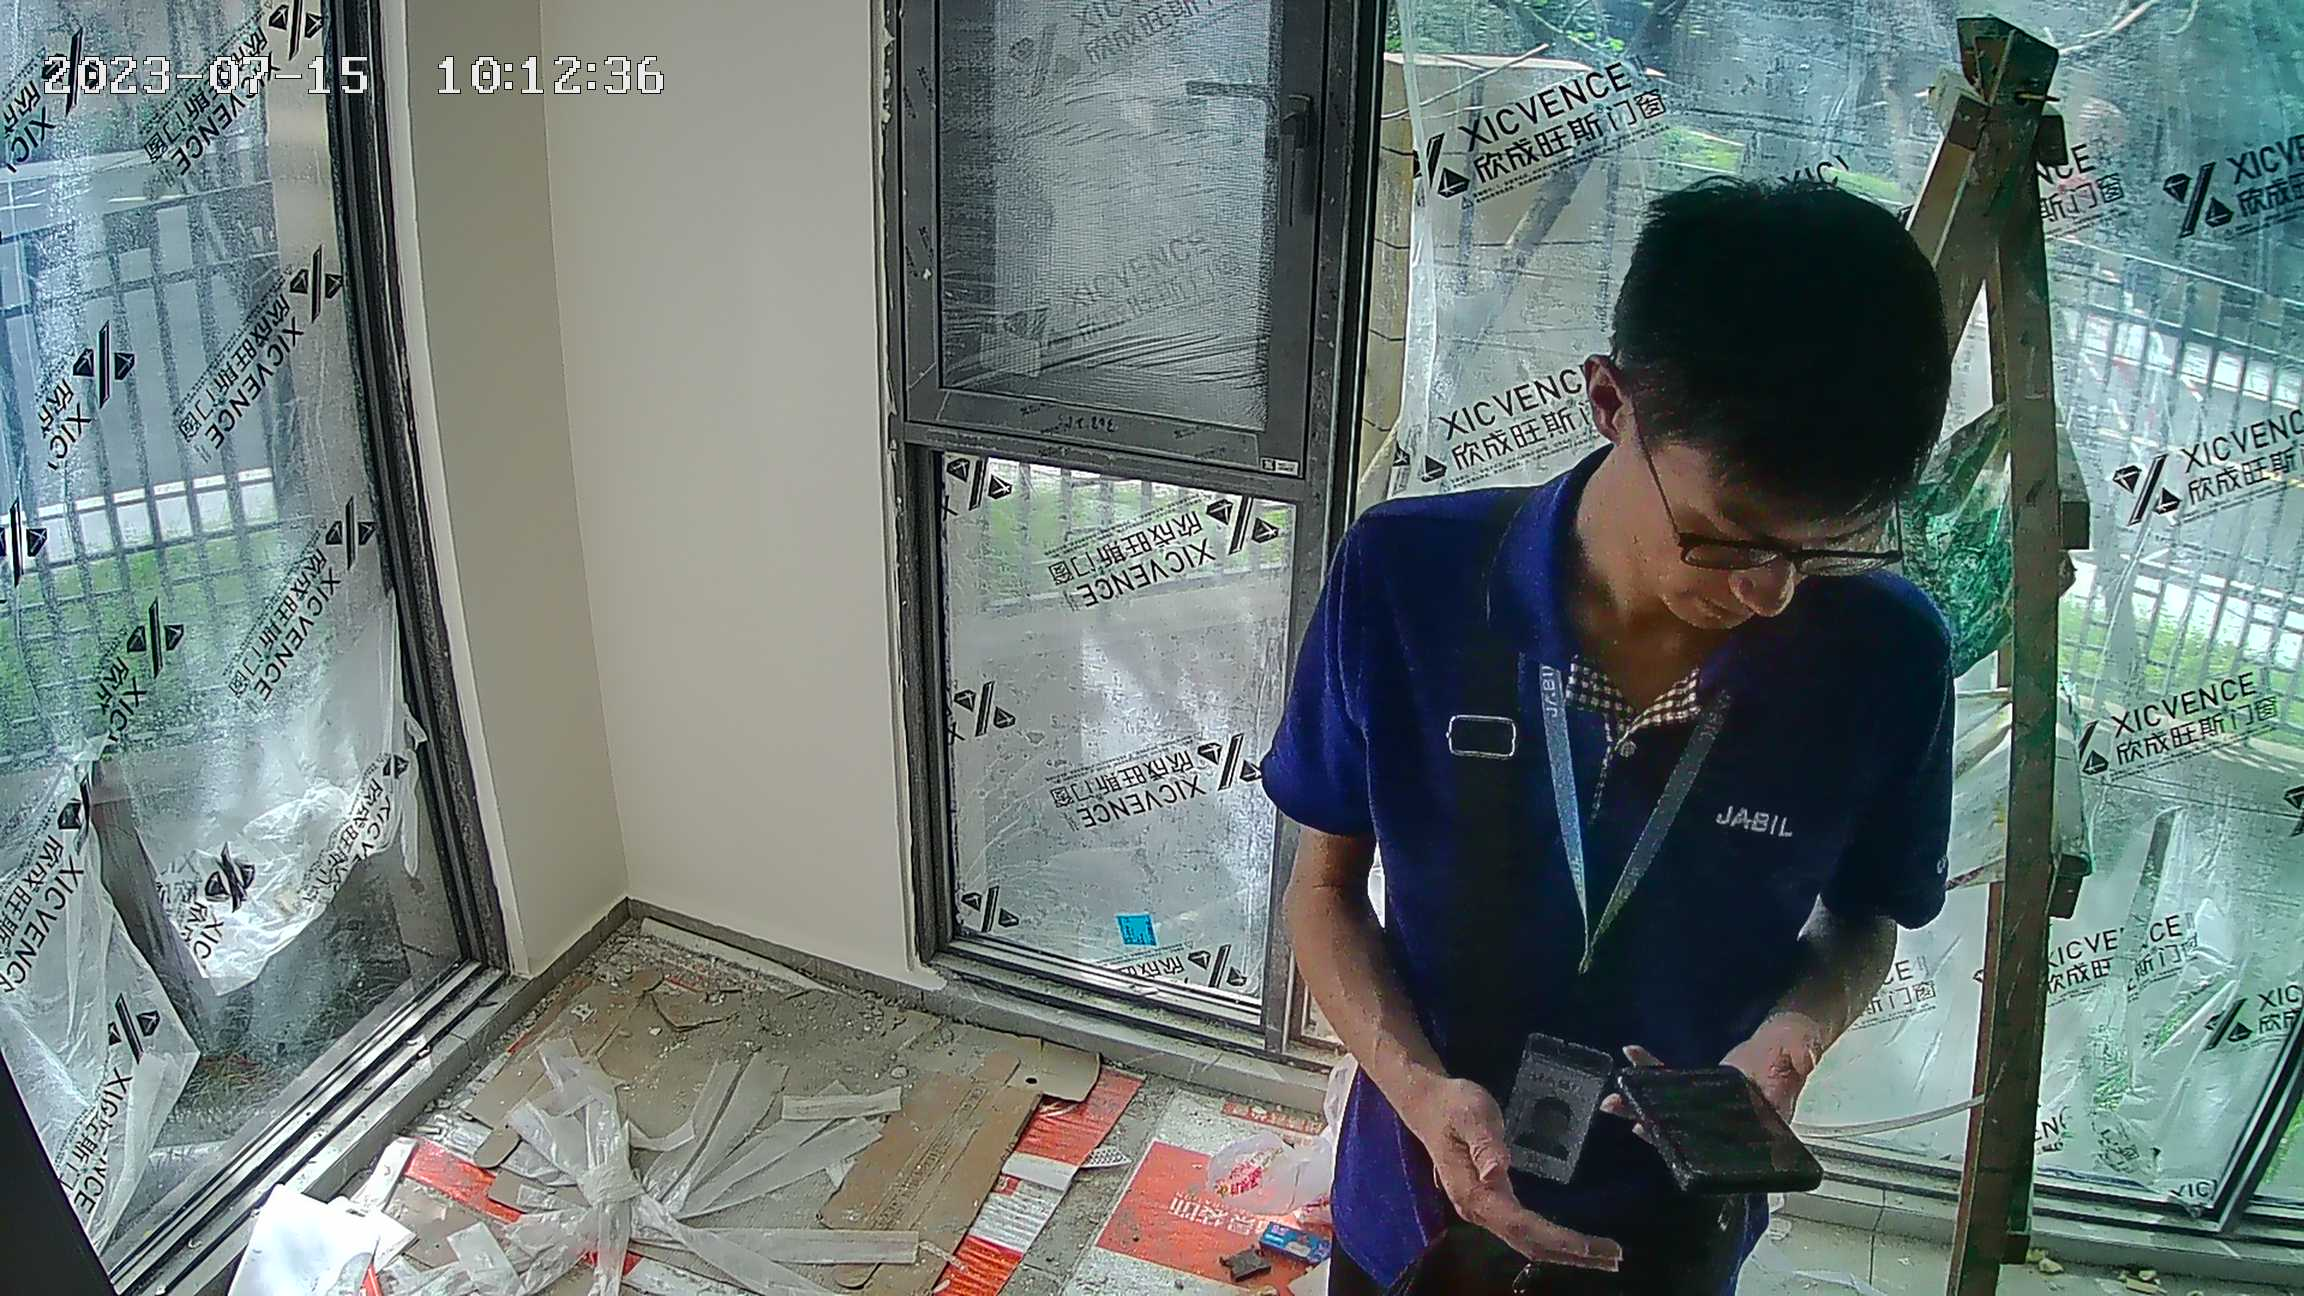people: (1261, 183, 1967, 1296)
window: (892, 10, 2304, 1246), (1, 1, 541, 1231)
